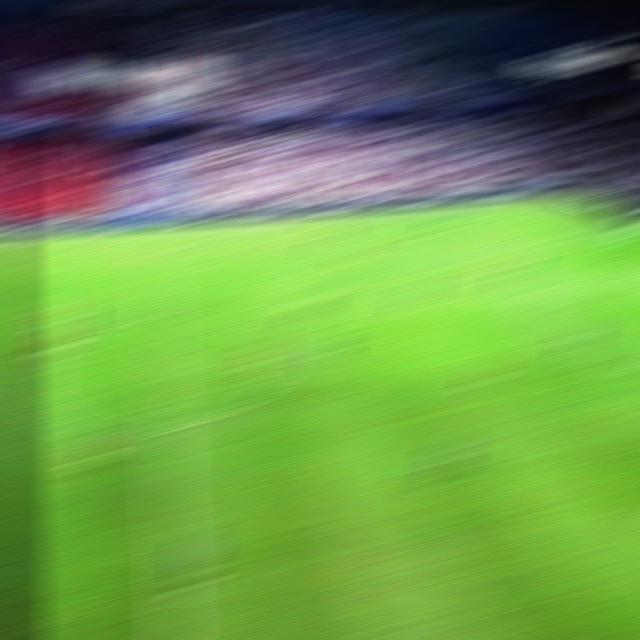bigarea_top_inner: (471, 244, 498, 249)
bottom_arc_area_intersection: (613, 356, 640, 362)
corner: (546, 198, 575, 198)
halfcircle_bottom: (144, 420, 182, 440)
halfcircle_top: (138, 311, 178, 329)
smallarea_top_inner: (623, 268, 640, 273)
top_arc_area_intersection: (525, 285, 555, 292)
